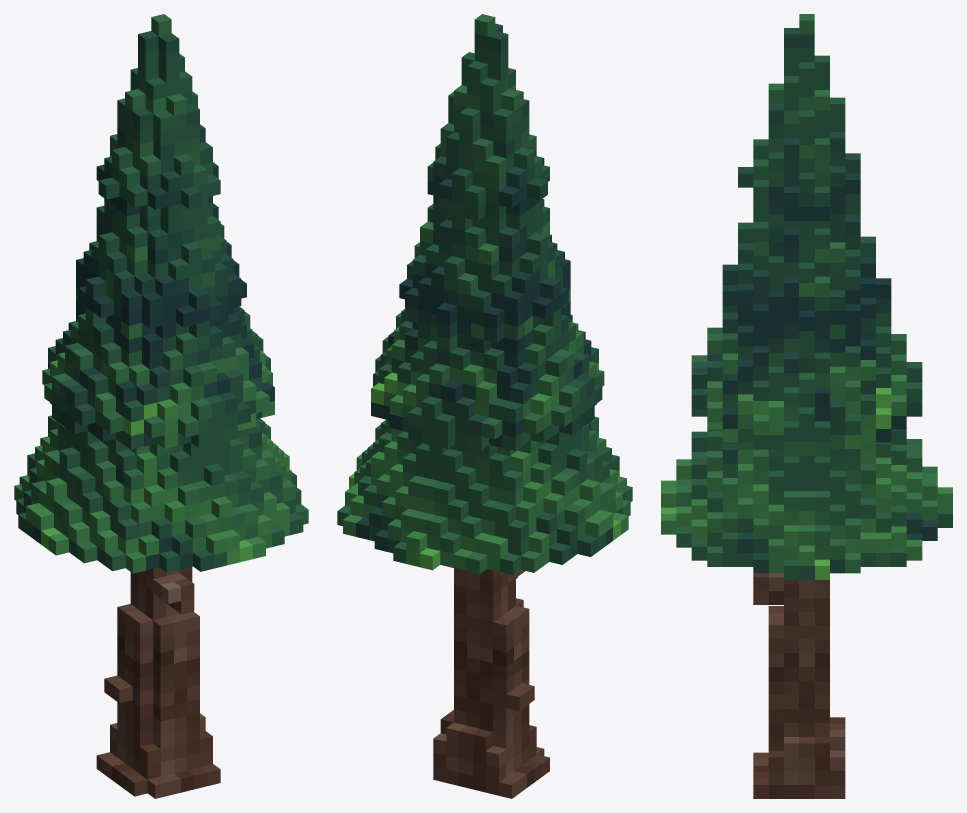
File: Conifer6.obj
The picture shows the model from 3 angles, left to right: view 1: azimuth 30°, elevation 25°; view 2: azimuth 150°, elevation 25°; view 3: azimuth 270°, elevation 25°; orthographic projection.
Parts seen in each view (by area): view 1: Conifer6; view 2: Conifer6; view 3: Conifer6.
Part boxes in pixels (x1,y1,x2,y2): Conifer6: (14, 14, 308, 798); Conifer6: (337, 14, 632, 798); Conifer6: (661, 14, 952, 798).
Size of the model in its own units: 1.9 by 5.5 by 1.9.
1 material, 1 textured.
